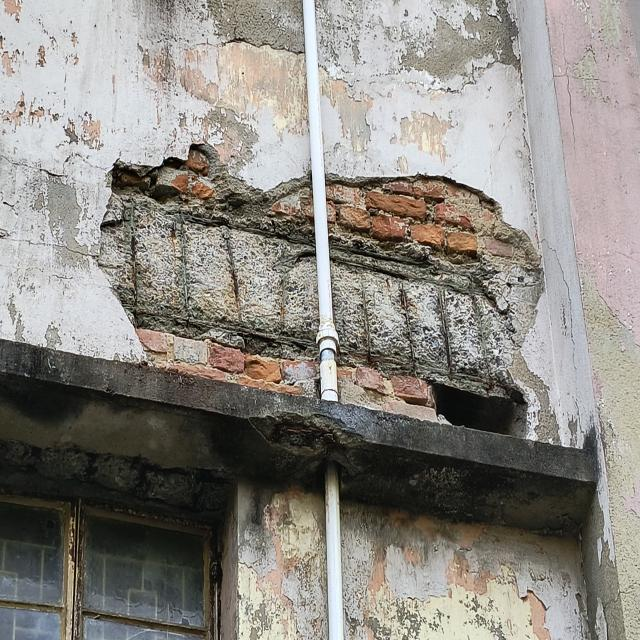crack: (551, 12, 618, 172)
peeling: (0, 0, 310, 360), (315, 0, 542, 251), (341, 500, 587, 640), (222, 483, 325, 640)
spalling: (328, 175, 544, 404), (100, 144, 318, 360), (0, 440, 229, 521), (262, 422, 333, 454)
stain_mould: (0, 340, 596, 531)
